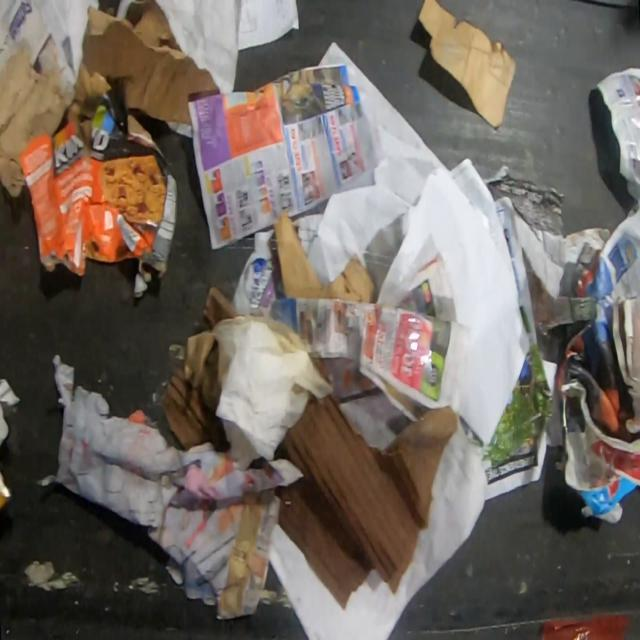cardboard: (274, 393, 458, 611), (16, 92, 178, 299), (64, 0, 221, 159), (159, 284, 242, 452), (417, 0, 517, 130), (0, 45, 75, 202), (273, 209, 376, 302)
soft_plastic: (383, 284, 457, 458), (541, 614, 632, 640)
